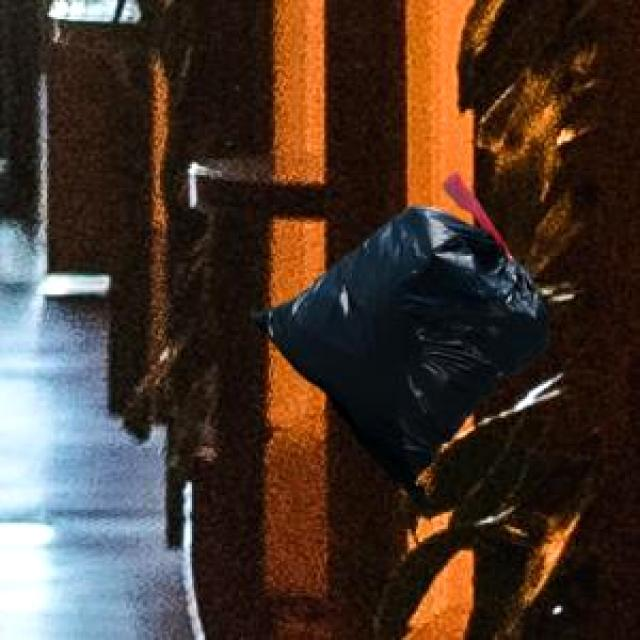Garbage_Bag: (248, 170, 548, 504)
